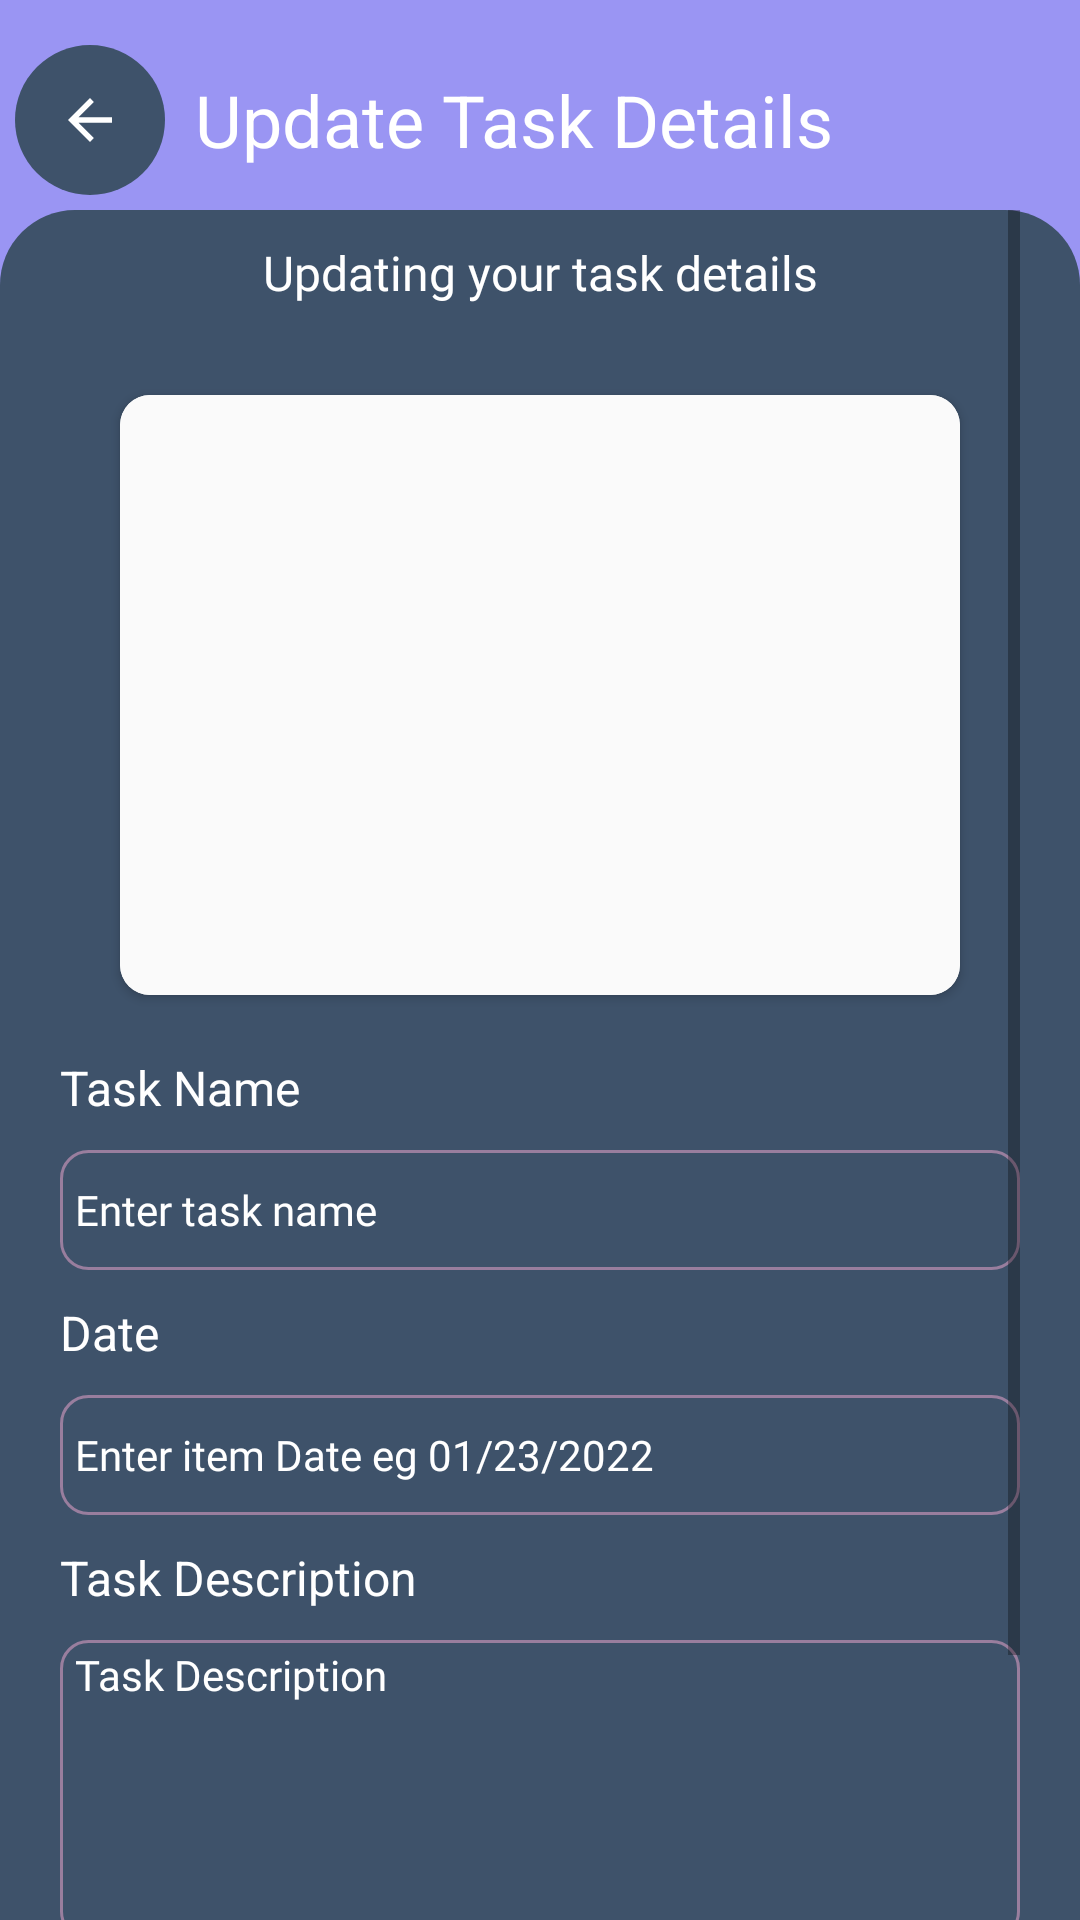

Locate icon controls on the screen. Image size 1080 x 1920, boxes as box(x1, y1, x2, y2).
back: box(15, 45, 165, 195)
